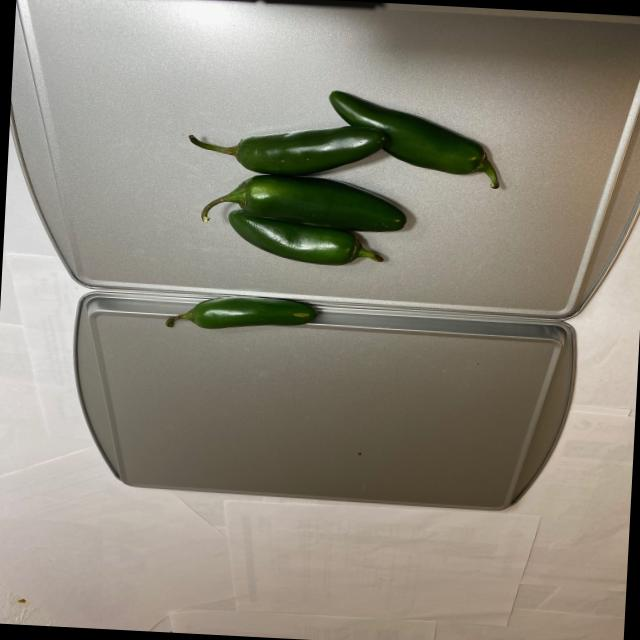chilli: (154, 86, 516, 350)
